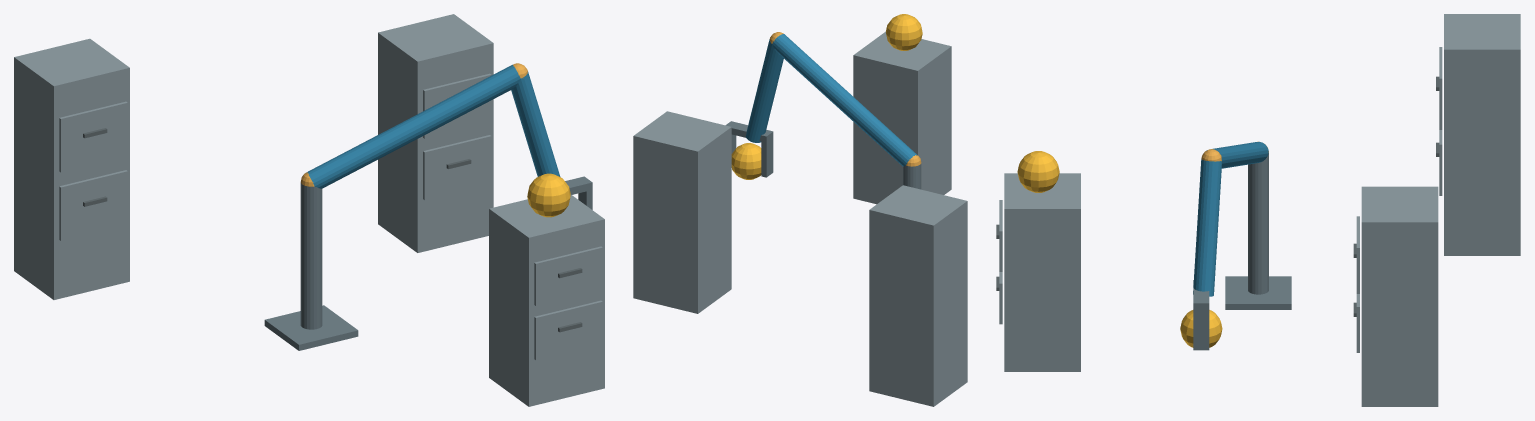
3 renders of one model, left to right at view 1: azimuth 30°, elevation 25°; view 2: azimuth 150°, elevation 25°; view 3: azimuth 270°, elevation 25°, orthographic. The views are drawn at different scales.
Visible parts, largest first — view 1: cabinet_3 body, cabinet_2 body, cabinet_1 body, moving link 1, cabinet_3 drawer front.001, cabinet_3 drawer front, cabinet_2 drawer front, fixed post, cabinet_1 drawer front, cabinet_1 drawer front.001, pedestal, moving link 2 (+2 smaller); view 2: cabinet_3 body, cabinet_2 body, cabinet_1 body, moving link 1, moving link 2, released ball_1, ball ball_2, gripper finger -1, fixed post, gripper bridge; view 3: cabinet_3 body, cabinet_2 body, cabinet_1 body, moving link 2, fixed post, pedestal, released ball_1, moving link 1, ball ball_2, gripper finger 1.
Boxes of the visible parts, x1,y1,x2,y2 form: cabinet_3 body: (14,38,129,299); cabinet_2 body: (378,14,493,252); cabinet_1 body: (489,194,604,406); moving link 1: (306,64,520,188); cabinet_3 drawer front.001: (59,101,127,172); cabinet_3 drawer front: (59,170,127,240); cabinet_2 drawer front: (423,135,491,200); fixed post: (300,183,322,329); cabinet_1 drawer front: (534,300,602,360); cabinet_1 drawer front.001: (534,246,602,305); pedestal: (264,305,358,350); moving link 2: (511,72,560,176); cabinet_3 body: (869,185,967,406); cabinet_2 body: (633,111,731,313); cabinet_1 body: (853,31,951,204); moving link 1: (772,34,917,166); moving link 2: (745,39,783,142); released ball_1: (886,14,922,50); ball ball_2: (731,143,761,179); gripper finger -1: (761,138,773,177); fixed post: (903,164,921,189); gripper bridge: (725,121,773,142); cabinet_3 body: (1444,14,1520,255); cabinet_2 body: (1361,186,1438,406); cabinet_1 body: (1004,173,1080,371); moving link 2: (1193,159,1221,296); fixed post: (1248,153,1268,294); pedestal: (1225,276,1291,309); released ball_1: (1017,151,1059,192); moving link 1: (1206,141,1268,168); ball ball_2: (1180,310,1222,347); gripper finger 1: (1193,310,1209,350).
Size of the model in its own units: 1.72 by 0.966 by 1.98.
